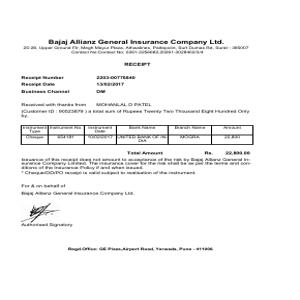table: (20, 125, 252, 144)
text: (19, 149, 265, 175), (20, 35, 253, 58), (17, 101, 252, 120), (17, 74, 143, 96), (19, 182, 141, 199), (119, 59, 158, 69)
